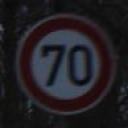speed_limit_70: (12, 11, 117, 117)
